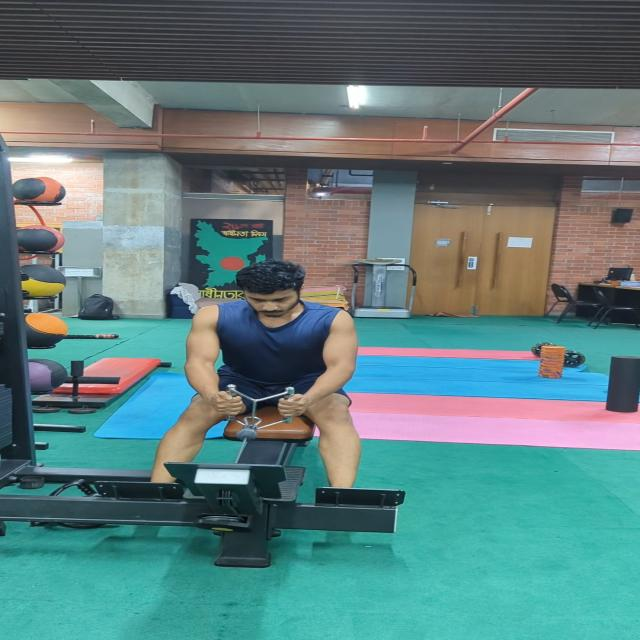Normal_RowingMachineExercise: (149, 259, 362, 489)
